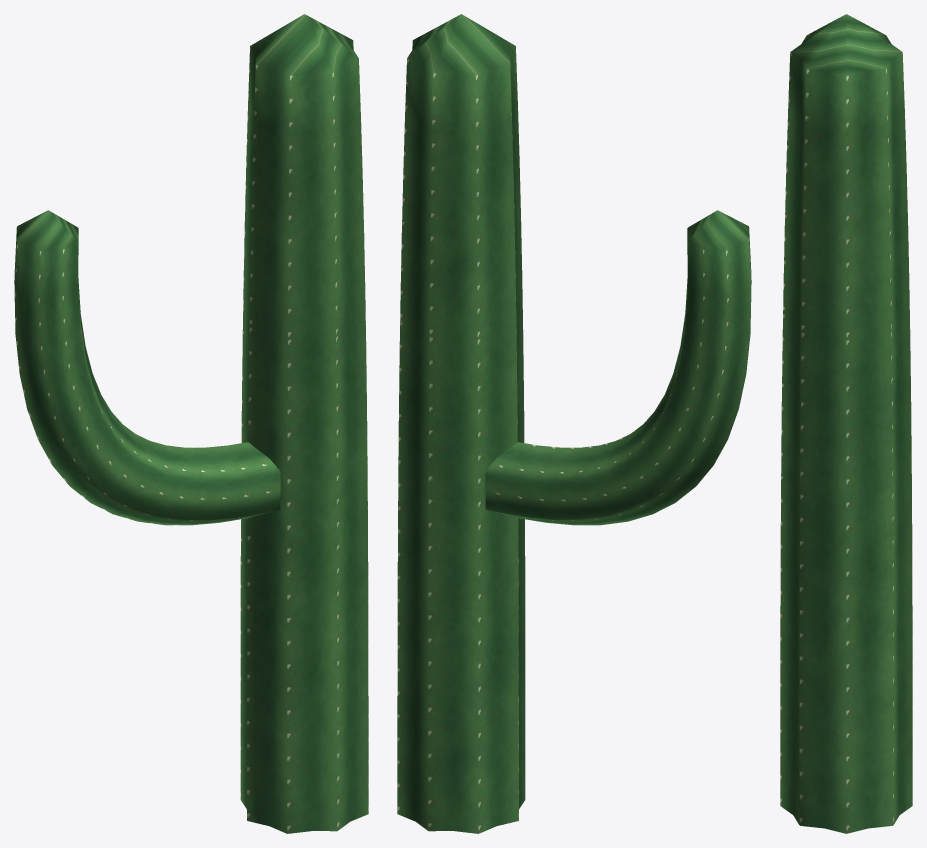
File: cactus_b.obj
3 views of the same model, side by side, from view 1: azimuth 30°, elevation 25°; view 2: azimuth 150°, elevation 25°; view 3: azimuth 270°, elevation 25° (orthographic).
Visible parts, largest first — view 1: cactus_b; view 2: cactus_b; view 3: cactus_b.
Boxes of the visible parts, x1,y1,x2,y2 form: cactus_b: [14, 14, 368, 833]; cactus_b: [397, 14, 751, 833]; cactus_b: [780, 14, 912, 833].
Bounding box in the file's own units: 1.23 × 2.68 × 0.4066.
1 material, 1 textured.
